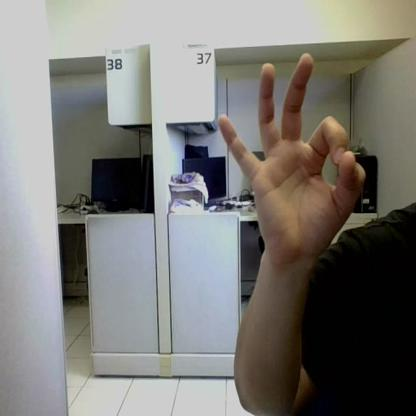F: (218, 53, 365, 254)
